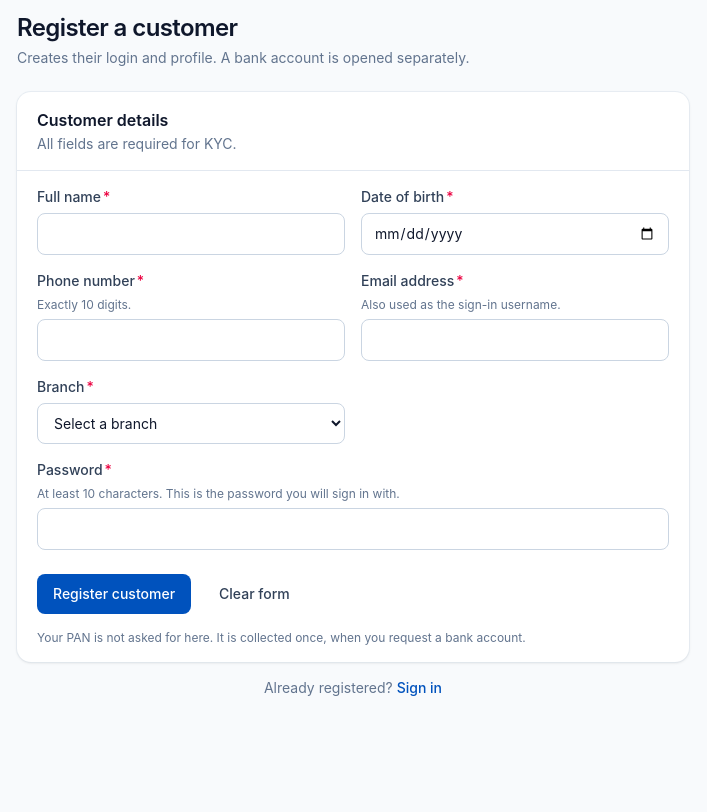
Test: RegisterPage › displays a server field error against the field it belongs to
The image size is (707, 812).
Type "Asha Rao" into the field labelled "Full name*".
click(191, 234); type("Asha Rao")  # box [37, 213, 345, 255]
Type "1994-03-21" into the date field labelled "Date of birth*".
click(515, 234); type("1994-03-21")  # box [361, 213, 669, 255]
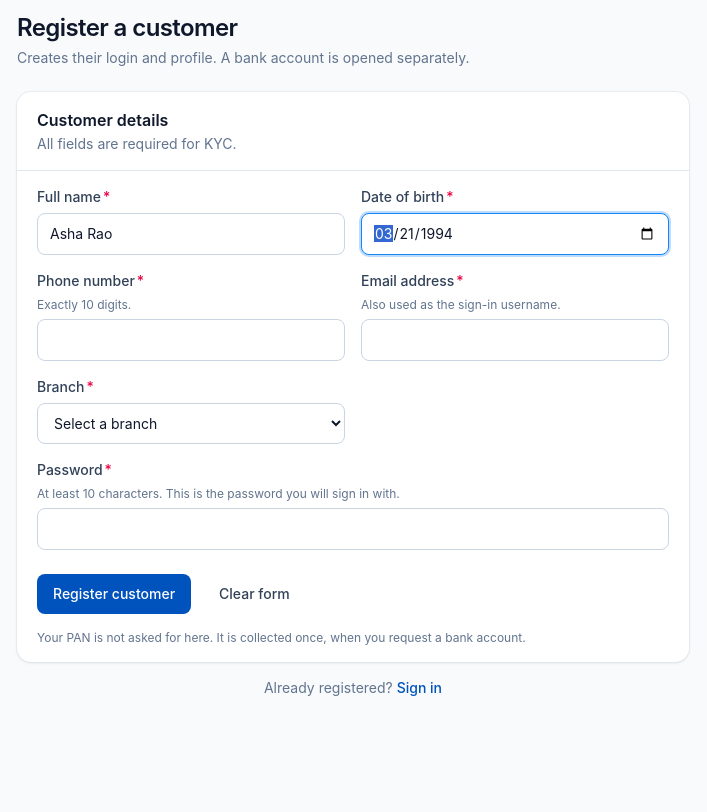
Type "9876543210" into the field labelled "Phone number*".
click(191, 340); type("9876543210")  # box [37, 319, 345, 361]
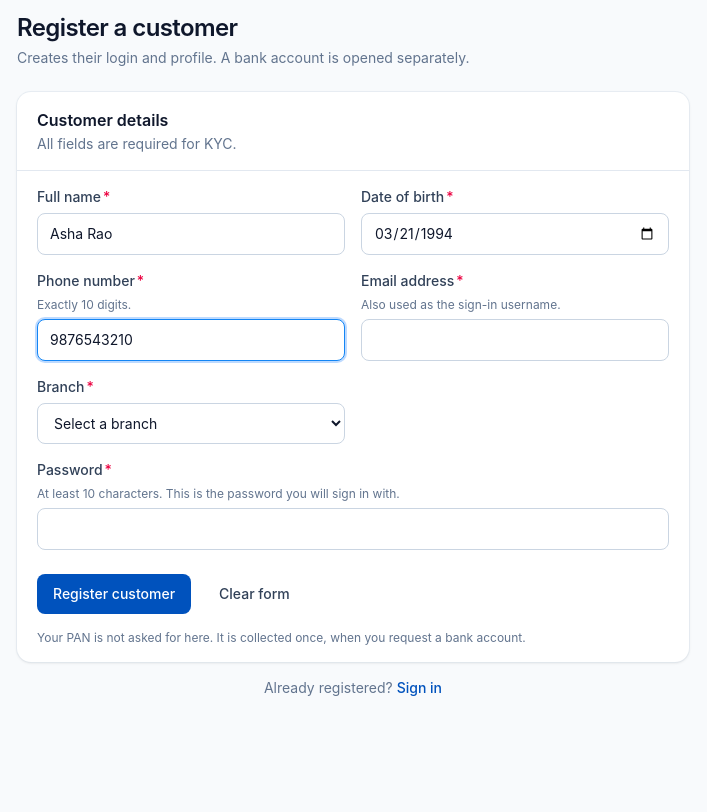
Type "asha.rao@example.com" into the field labelled "Email address*".
click(515, 340); type("asha.rao@example.com")  # box [361, 319, 669, 361]
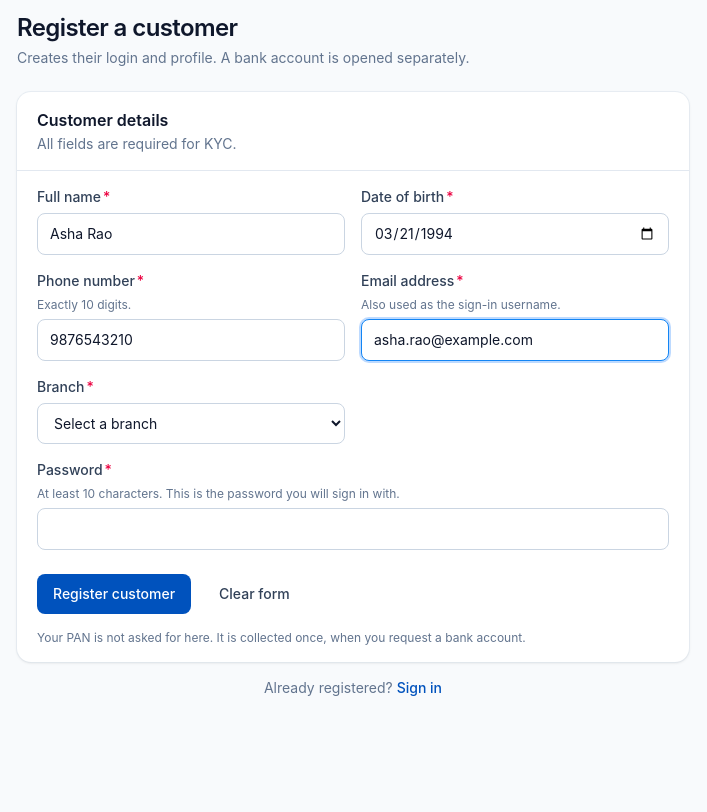
Select "101 - Main Street" in the dropdown labelled "Branch*" at (191, 424), box [37, 403, 345, 444]
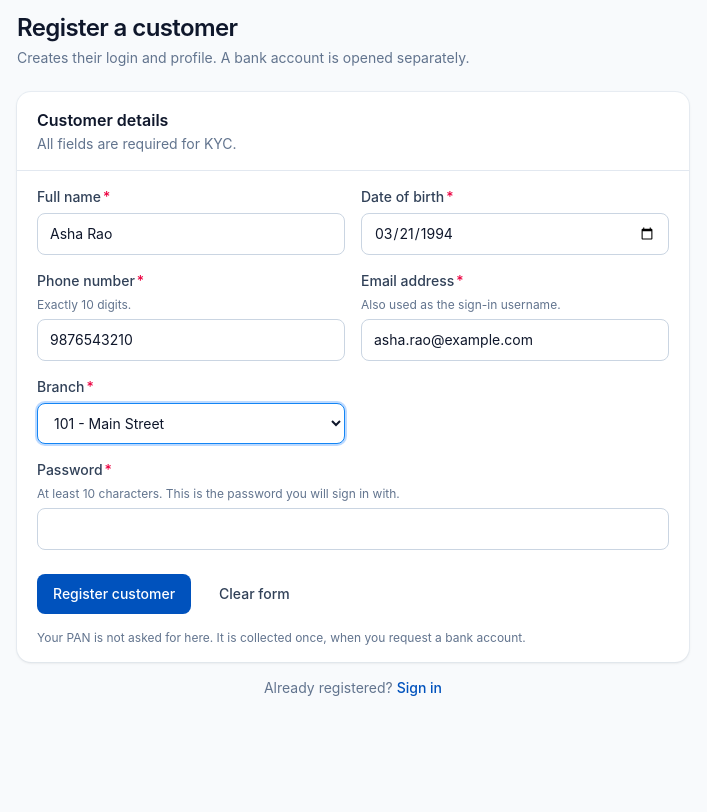
Type "correct-horse-battery" into the password field labelled "Password*".
click(353, 529); type("correct-horse-battery")  # box [37, 508, 669, 550]
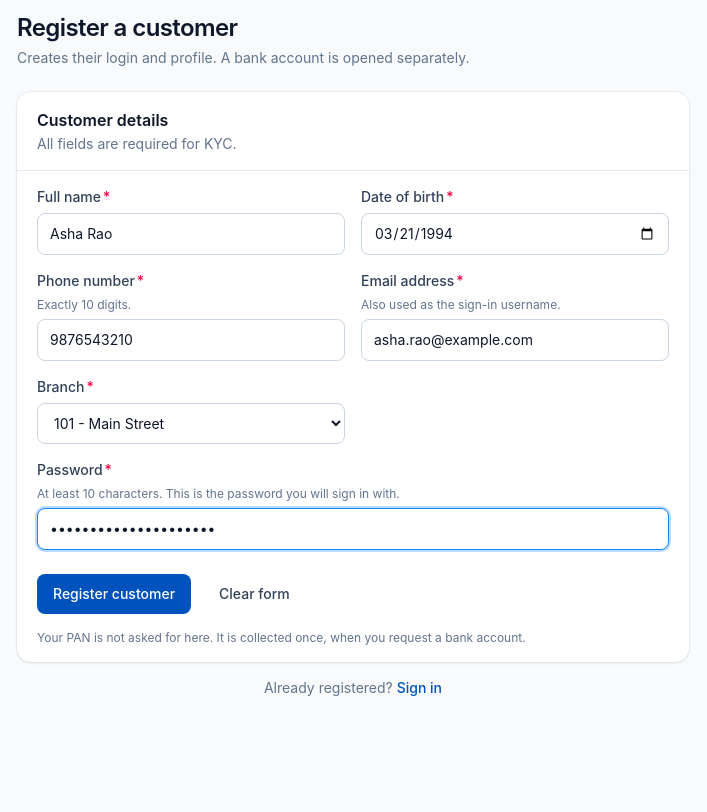
Click the button "Register customer".
click(114, 594)  # box [37, 574, 191, 614]
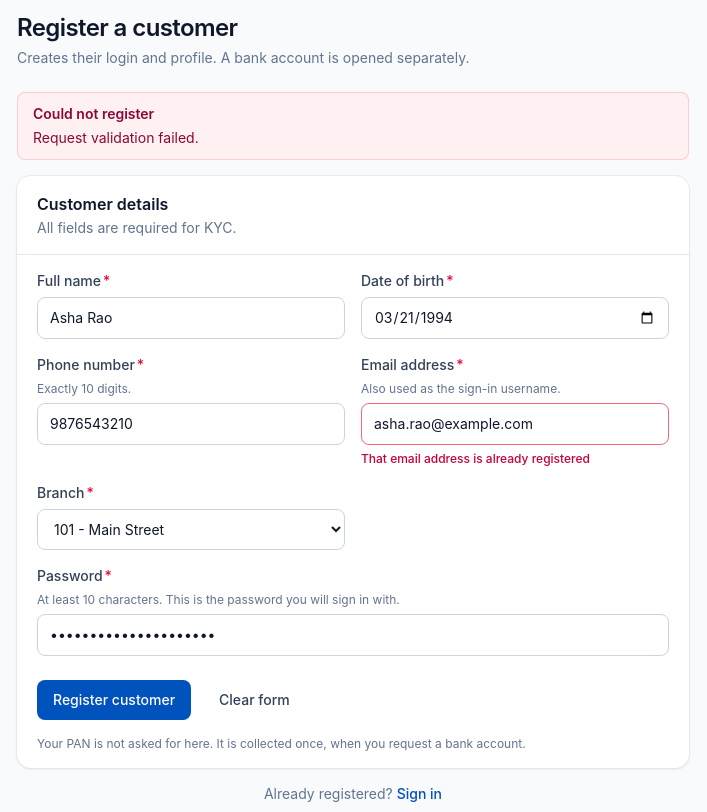
Expected: the text "That email address is already registered" is shown, [361, 451, 590, 466]
